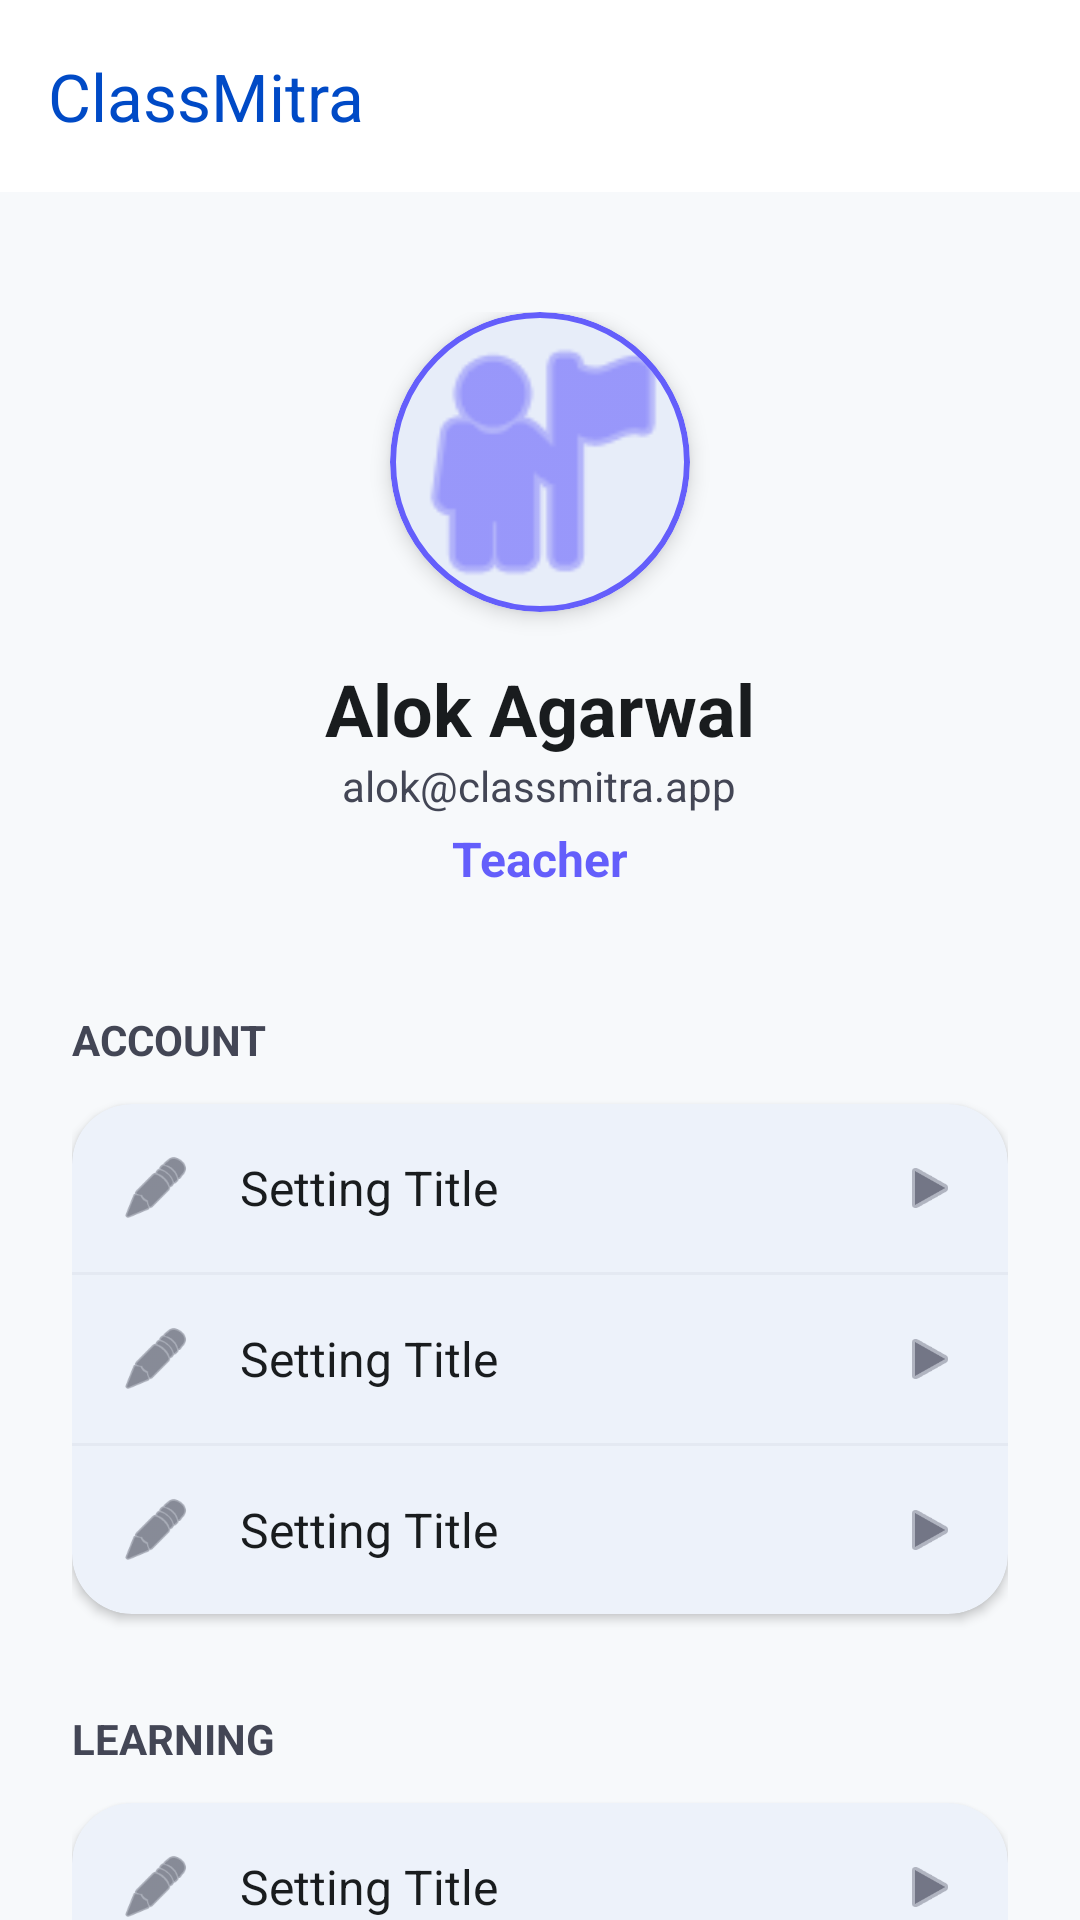

Named icons in this screenshot (1080 × 1920) and their centers, point (x, y):
edit: point (155, 1187), point (155, 1358), point (155, 1529), point (155, 1886)
play: point (930, 1188), point (930, 1359), point (930, 1530), point (930, 1887)
